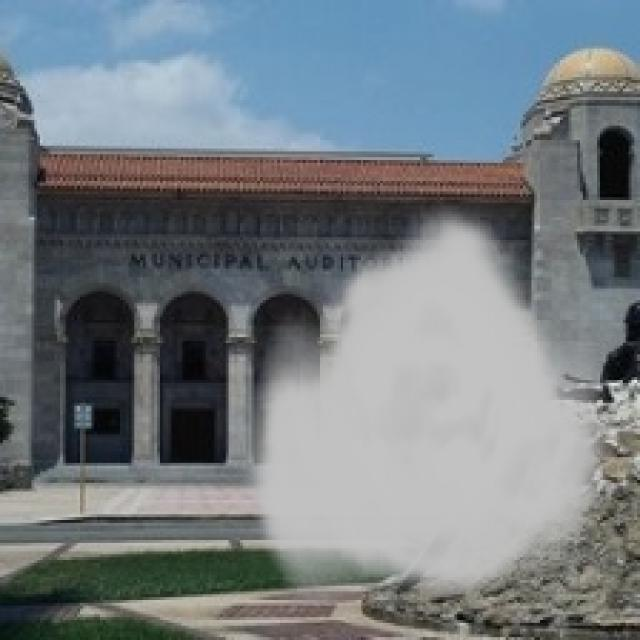smoke: (243, 203, 620, 606)
